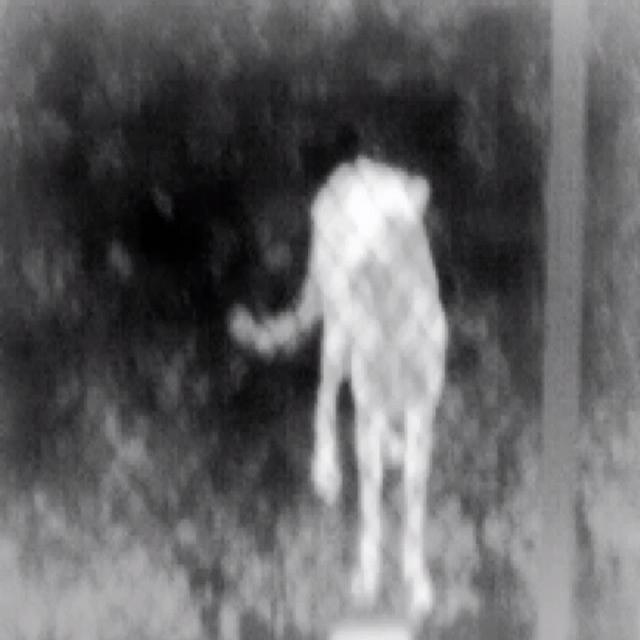cheetah: (226, 159, 447, 604)
